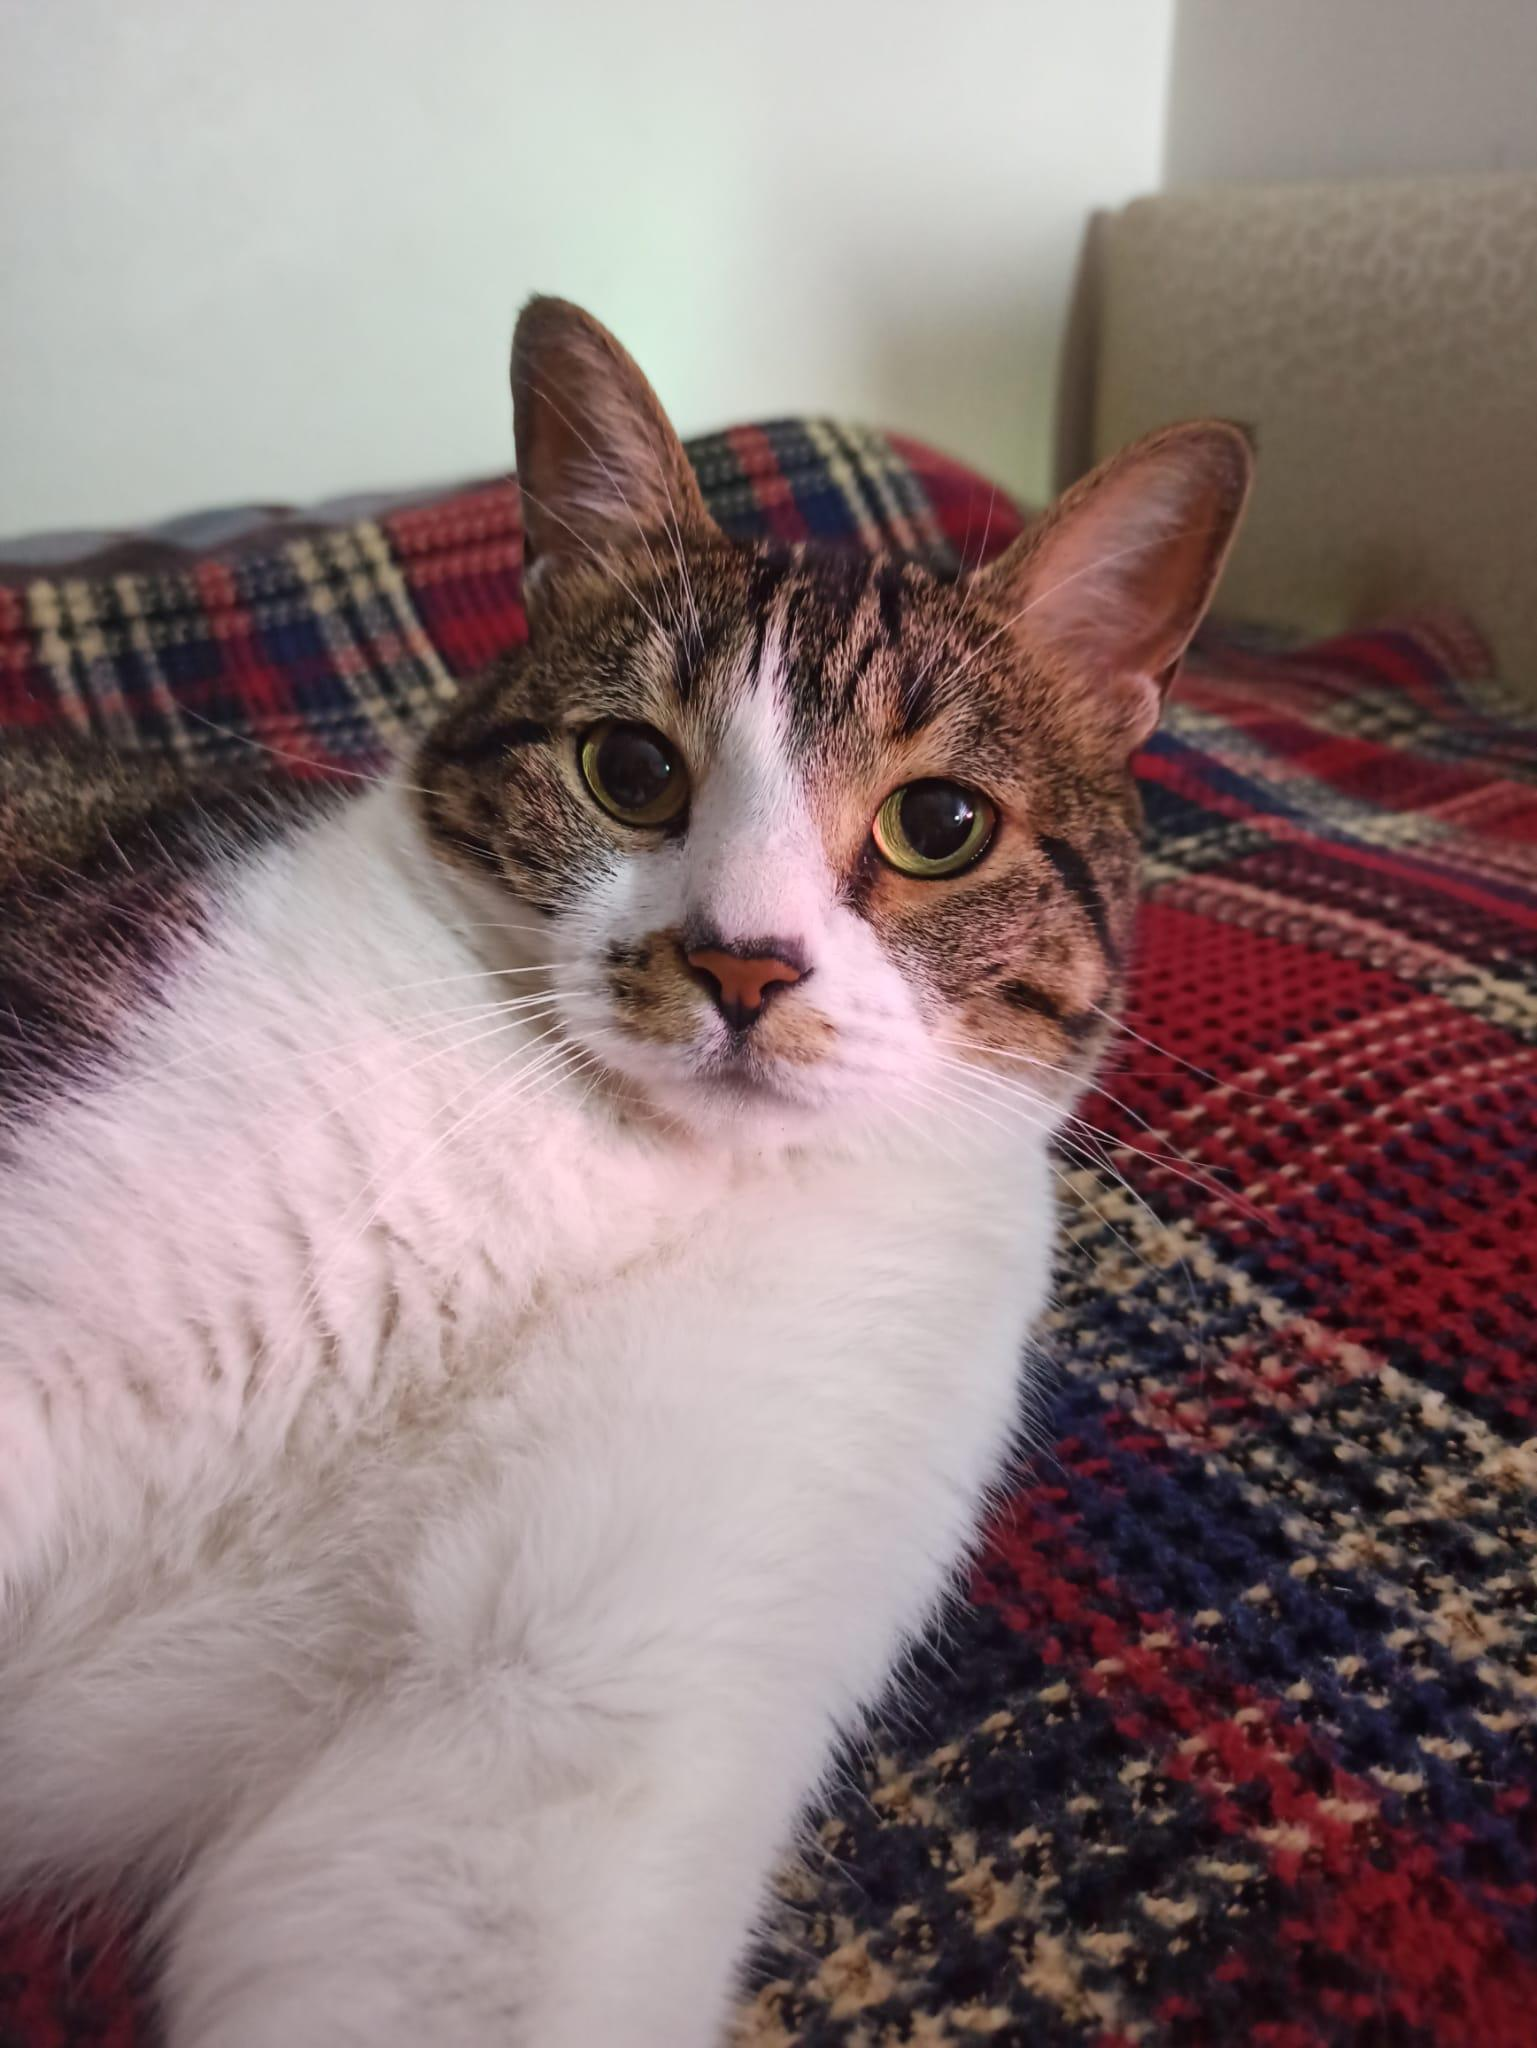kedo: (6, 294, 1248, 2045)
